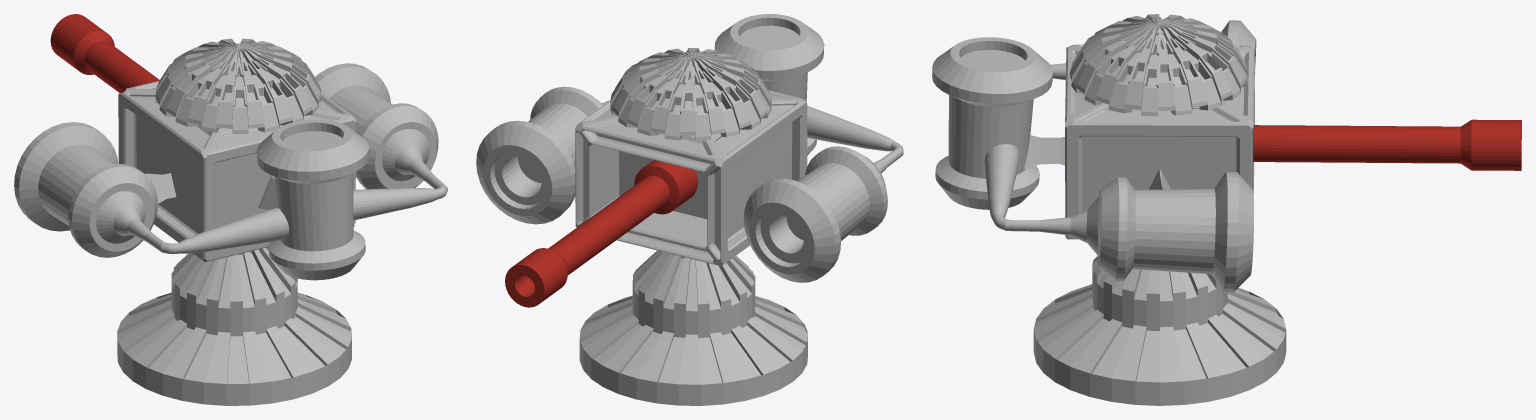
Rendered from Torreta.fbx.
3 renders of one model, left to right at view 1: azimuth 30°, elevation 25°; view 2: azimuth 150°, elevation 25°; view 3: azimuth 270°, elevation 25°, orthographic. The views are drawn at different scales.
Visible parts, largest first — view 1: Torreta; view 2: Torreta; view 3: Torreta.
Boxes of the visible parts, box(x1,y1,x2,y2) form: Torreta: box(14, 14, 447, 405); Torreta: box(476, 14, 903, 405); Torreta: box(932, 14, 1521, 405).
Size of the model in its own units: 642 by 520 by 824.
